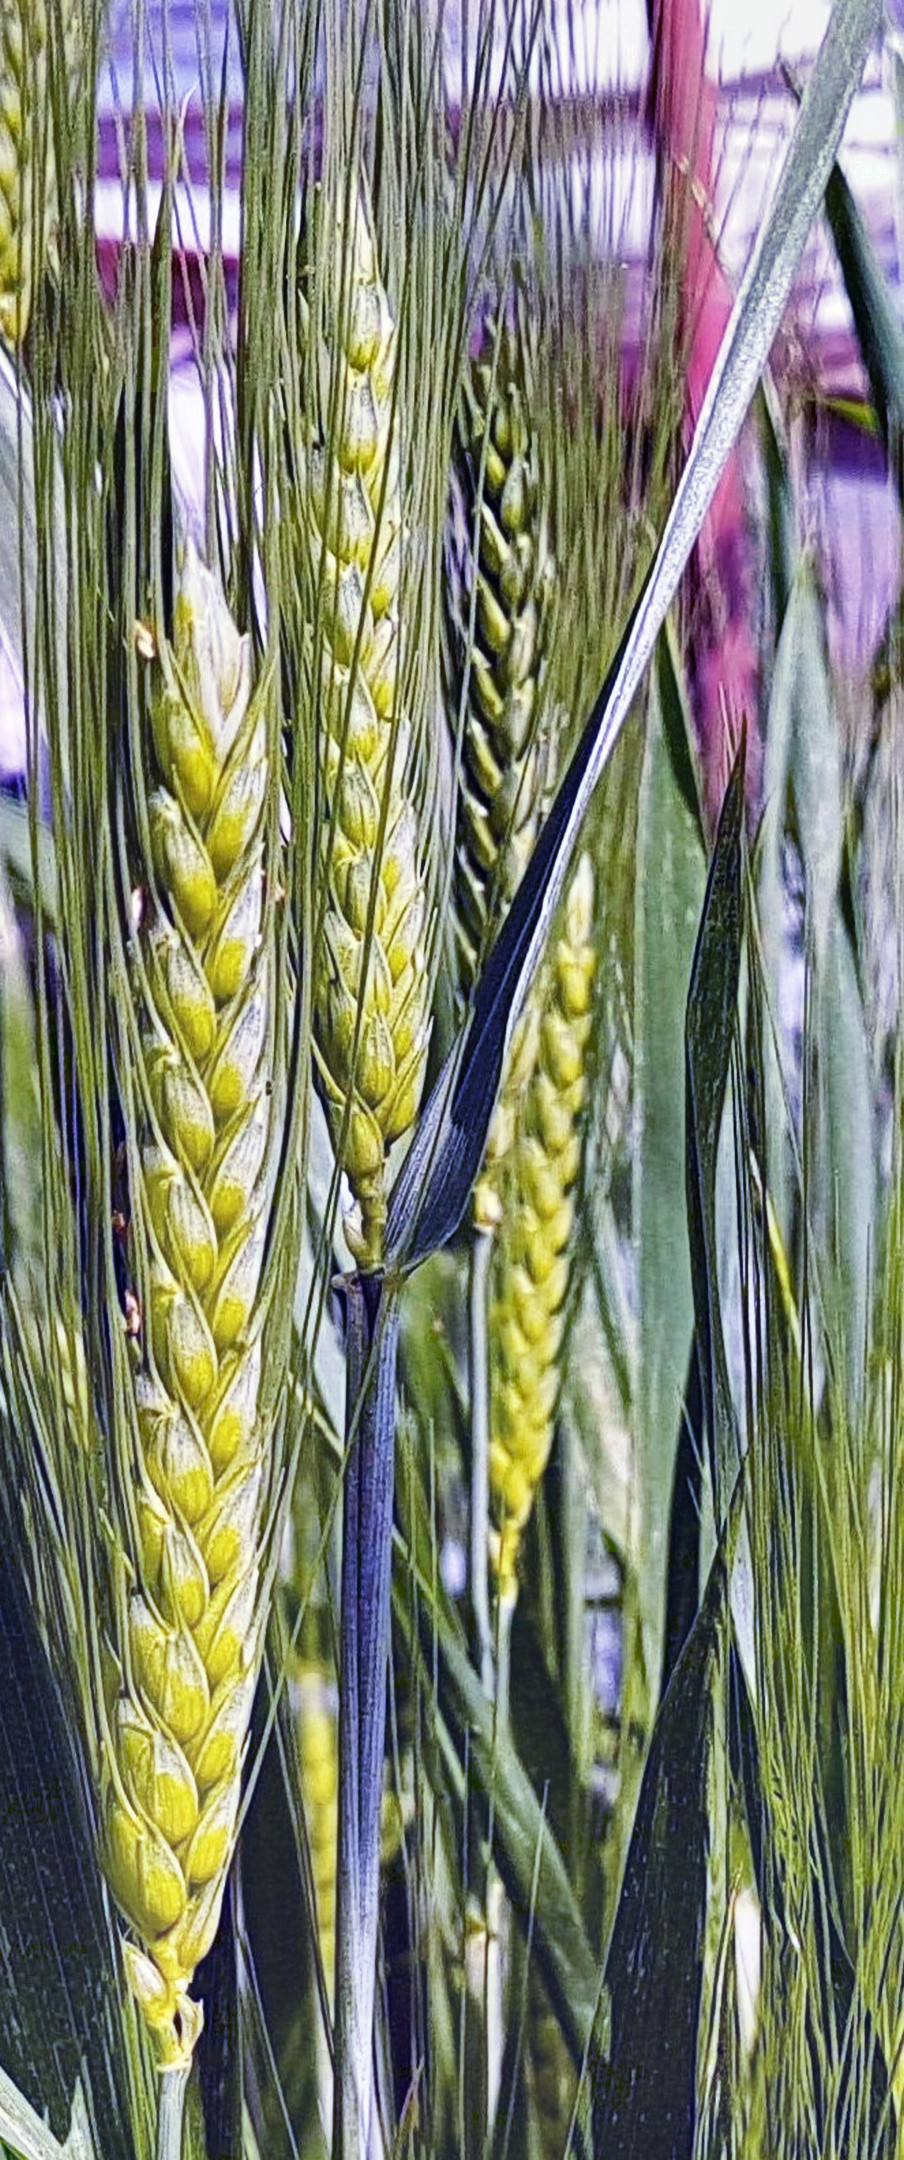Healthy Wheat: (69, 559, 357, 1975)
